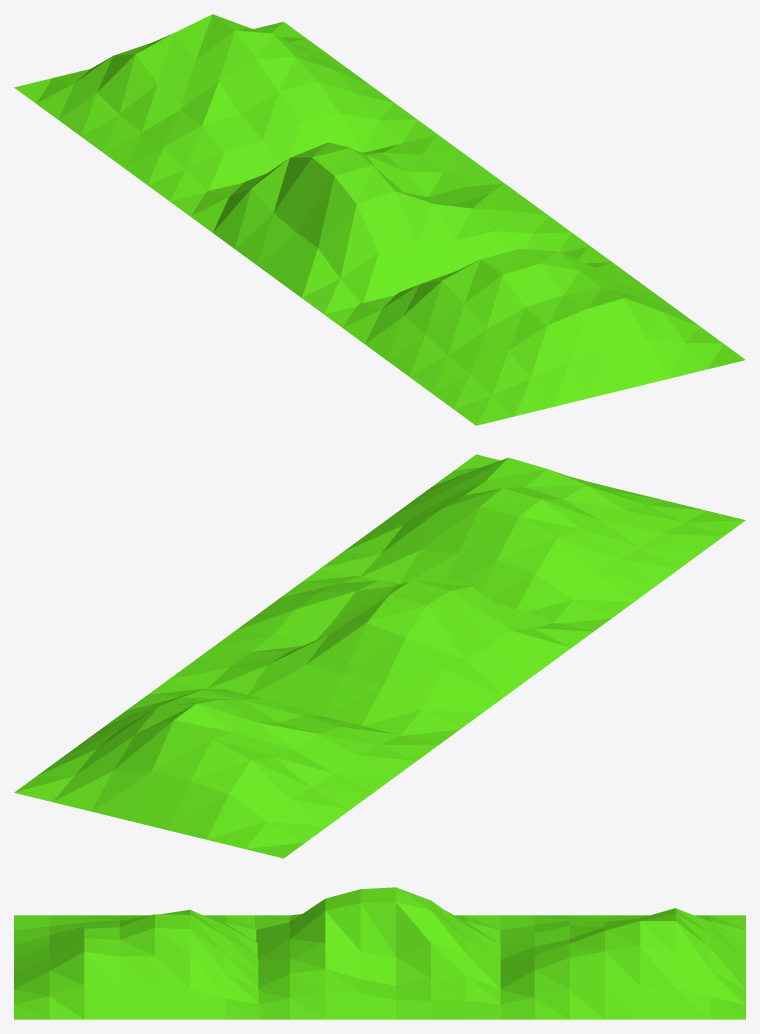
The model's file is hills2.dae.
3 renders of one model, top to bottom at view 1: azimuth 30°, elevation 25°; view 2: azimuth 150°, elevation 25°; view 3: azimuth 270°, elevation 25°, orthographic. The views are drawn at different scales.
Parts seen in each view (by area): view 1: Landscape.036, Landscape.038, Landscape.037; view 2: Landscape.037, Landscape.038, Landscape.036; view 3: Landscape.037, Landscape.038, Landscape.036.
Part boxes in pixels (box(x1,y1,x2,y2)): Landscape.036: box(324, 246, 745, 425); Landscape.038: box(14, 14, 437, 201); Landscape.037: box(170, 134, 589, 314); Landscape.037: box(168, 568, 593, 744); Landscape.038: box(14, 680, 439, 858); Landscape.036: box(320, 454, 745, 631); Landscape.037: box(255, 887, 501, 1019); Landscape.038: box(499, 908, 745, 1019); Landscape.036: box(14, 909, 260, 1019).
Bounding box in the file's own units: 25 × 74.18 × 6.5.
